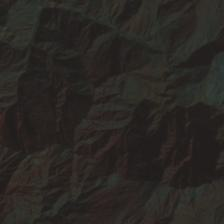landslides: (0, 25, 8, 40)
